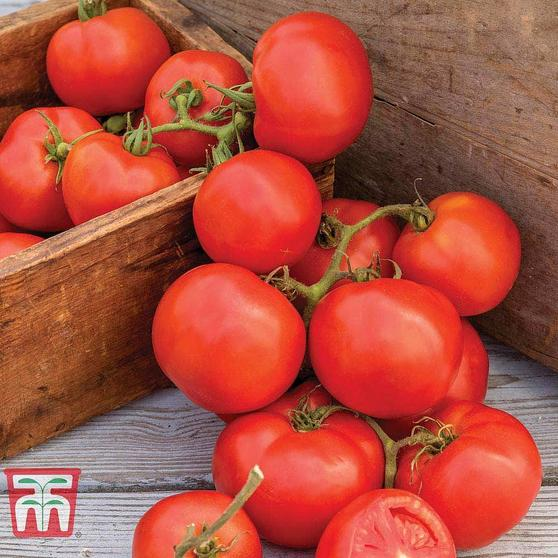tomato: (155, 257, 305, 418), (314, 272, 462, 419), (190, 146, 328, 272), (396, 191, 528, 312), (59, 132, 179, 232), (48, 14, 168, 113)
